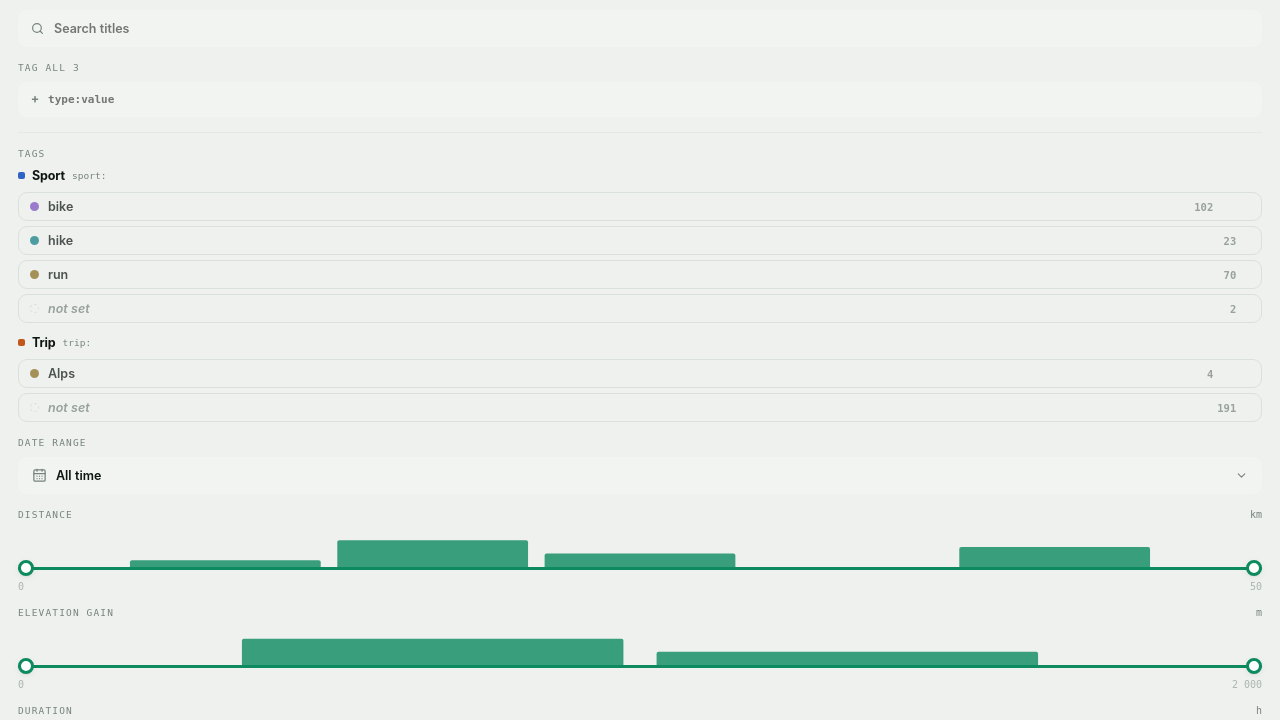
Test: the filter sidebar › refuses a tag that is not <type>:<value> without asking the server
Type "steel" into the field labelled "type:value" at coordinates (648, 100), box [46,92,1249,107]
Then press Enter
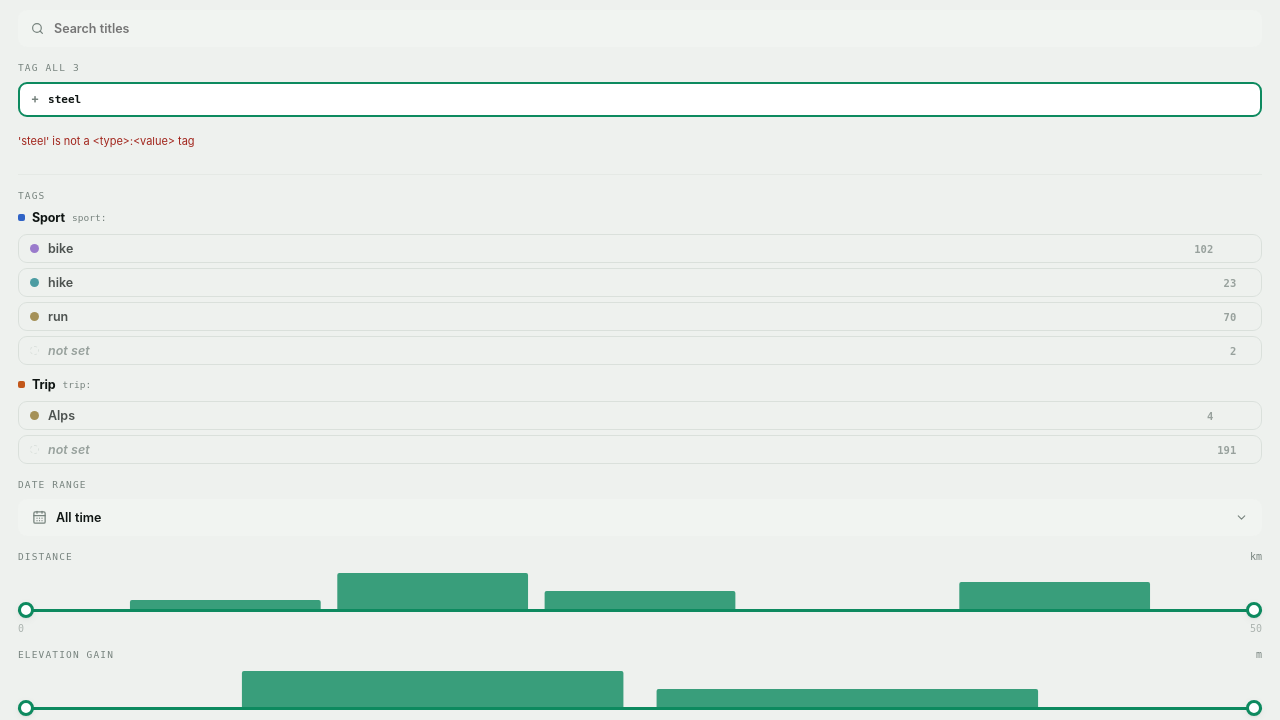
Expected: the text "'steel' is not a <type>:<value> tag" is shown, [18,134,195,148]
